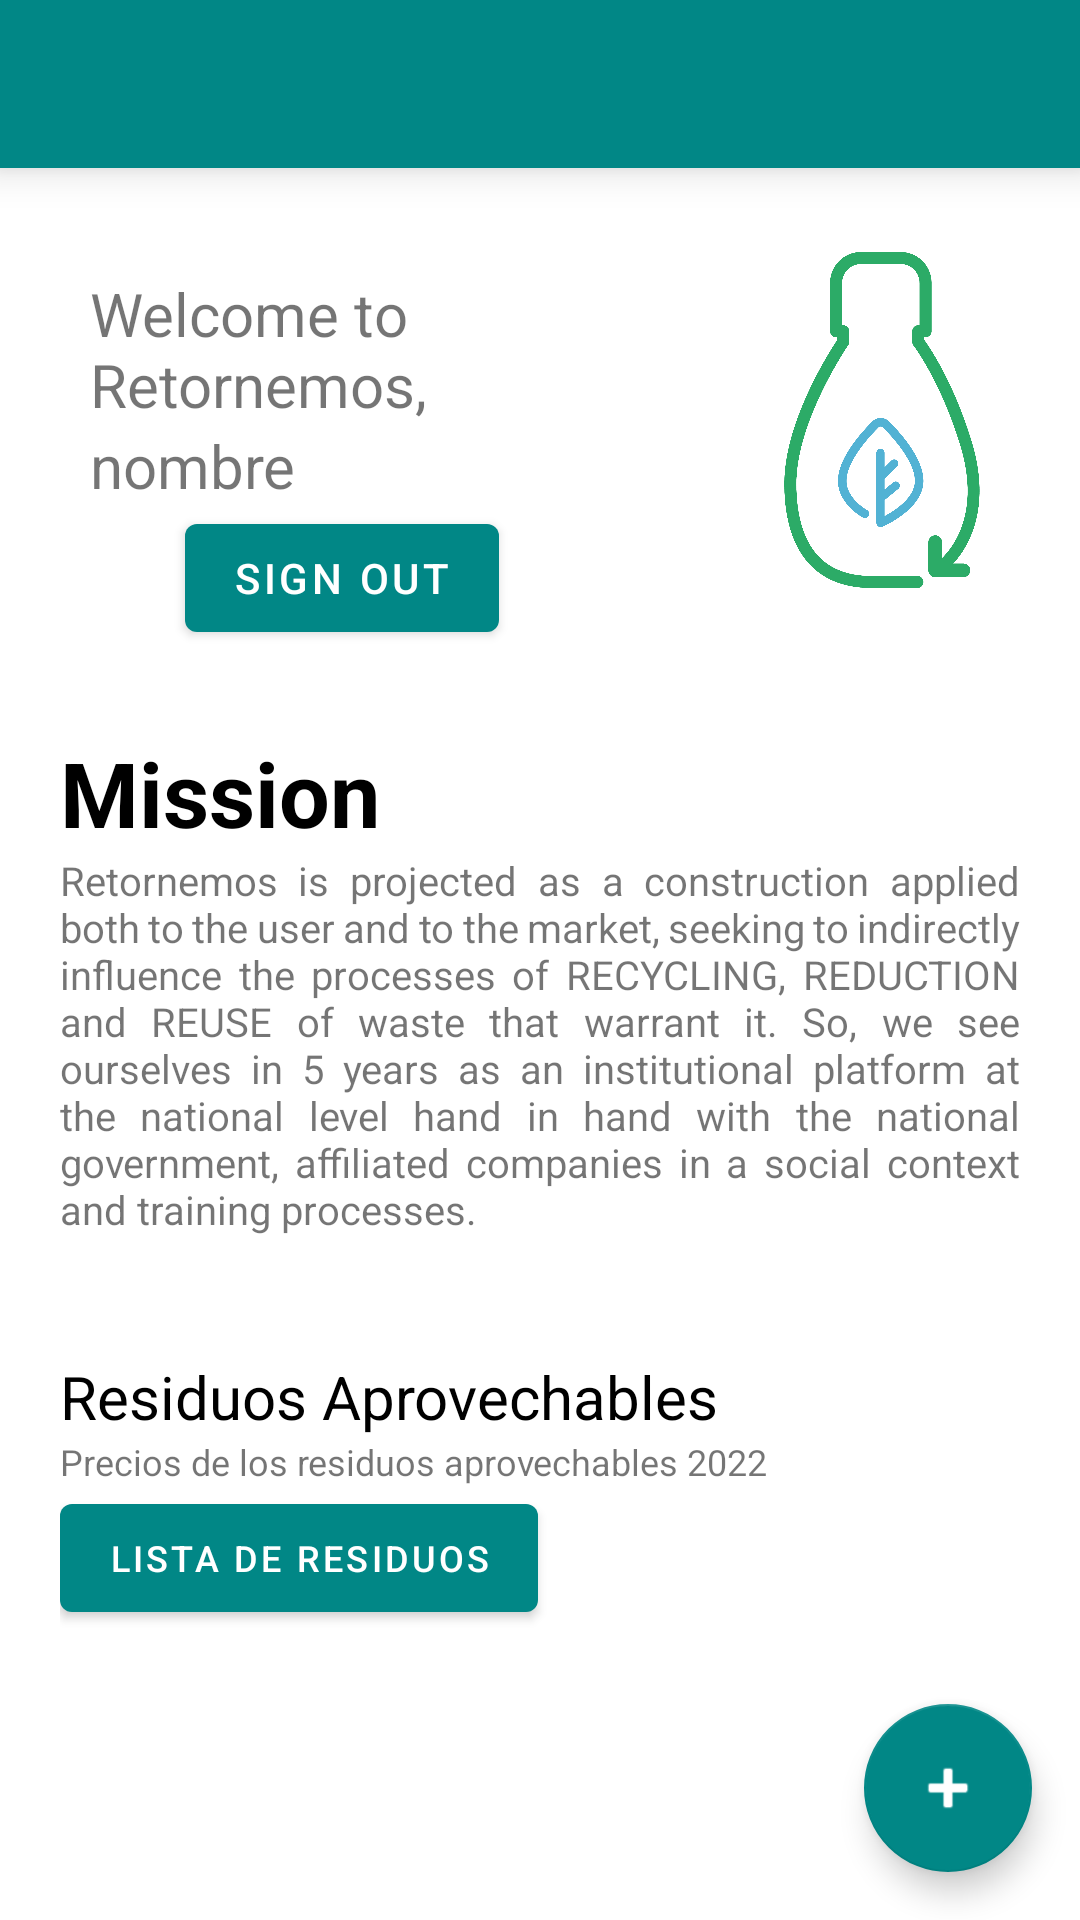

Where icons sit on this 1080w x 1920h app screen, as (x1, y1, x2, y2):
add: (864, 1704, 1032, 1872)
